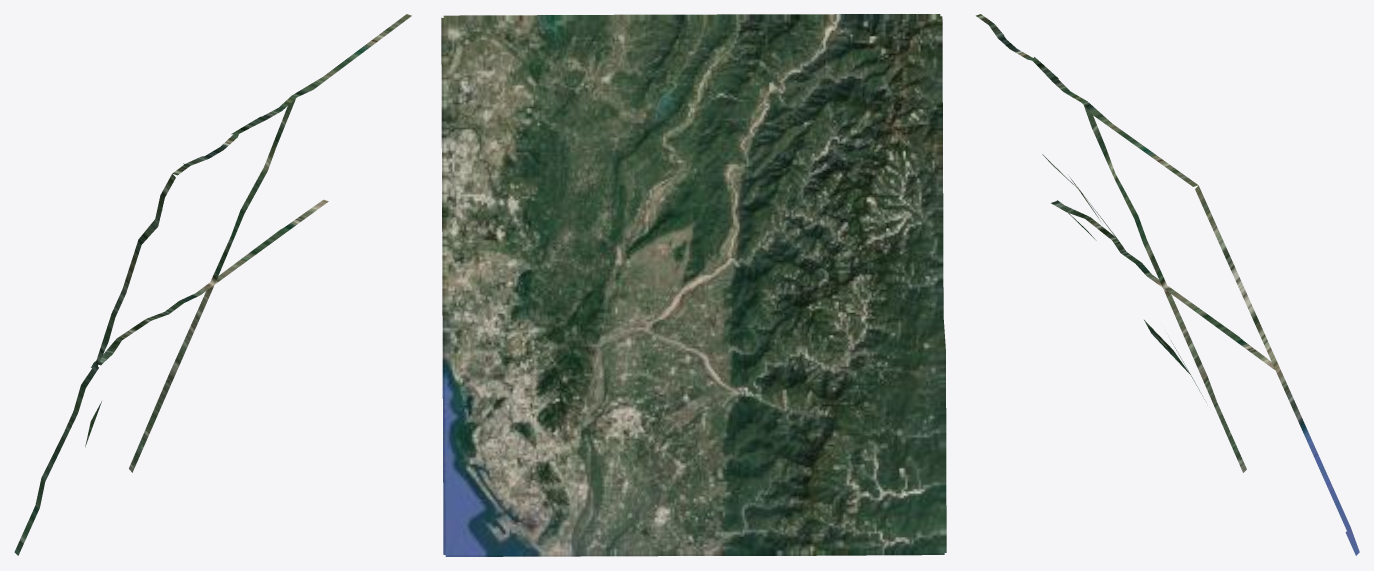
The picture shows the model from 3 angles, left to right: view 1: azimuth 30°, elevation 25°; view 2: azimuth 150°, elevation 25°; view 3: azimuth 270°, elevation 25°; orthographic projection. The views are drawn at different scales.
Size of the model in its own units: 78801 by 73888 by 61798.
1 material, 1 textured.
